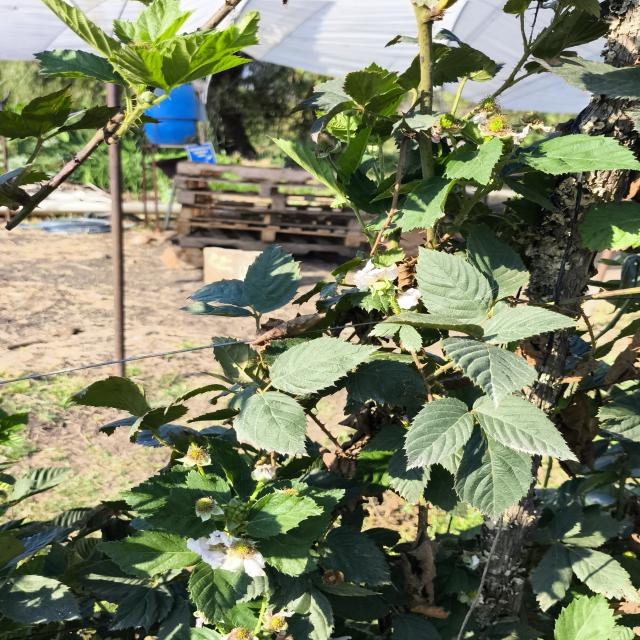flor: (221, 538, 265, 577), (186, 531, 229, 569), (354, 260, 398, 290), (396, 288, 421, 309), (252, 464, 275, 482)
